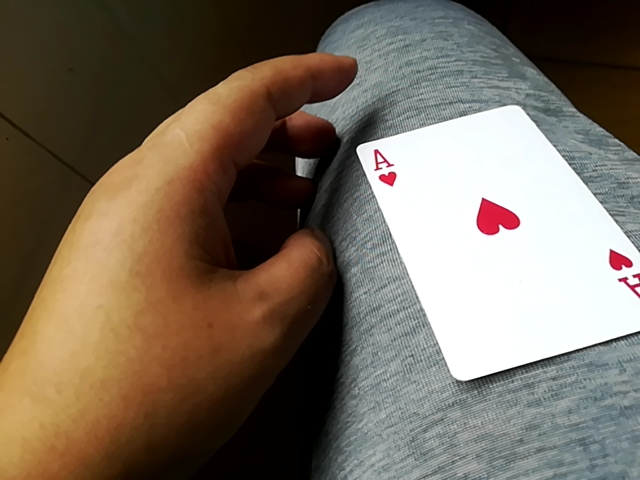hx a: (355, 102, 639, 385)
